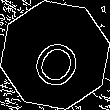O_NE: (23, 21, 87, 89)
